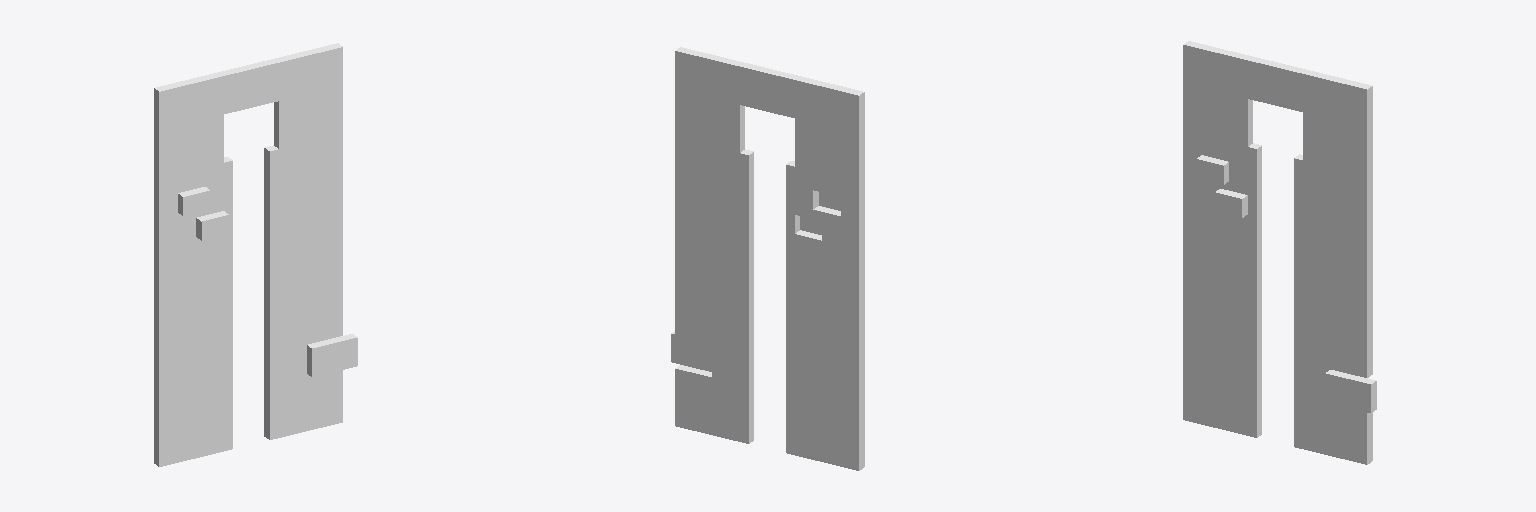
Rendered from TallBuilding02-2.obj.
3 views of the same model, side by side, from view 1: azimuth 30°, elevation 25°; view 2: azimuth 150°, elevation 25°; view 3: azimuth 330°, elevation 25° (orthographic).
Parts seen in each view (by area): view 1: object 1; view 2: object 1; view 3: object 1.
Boxes of the visible parts, x1,y1,x2,y2 form: object 1: [154, 43, 357, 466]; object 1: [671, 47, 864, 470]; object 1: [1183, 41, 1376, 464].
Bounding box in the file's own units: 2.1 × 3.9 × 0.2.